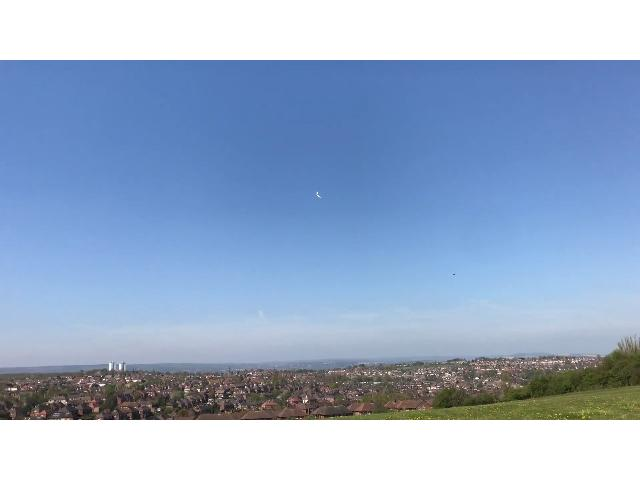Anti-Drone: (311, 185, 325, 200)
